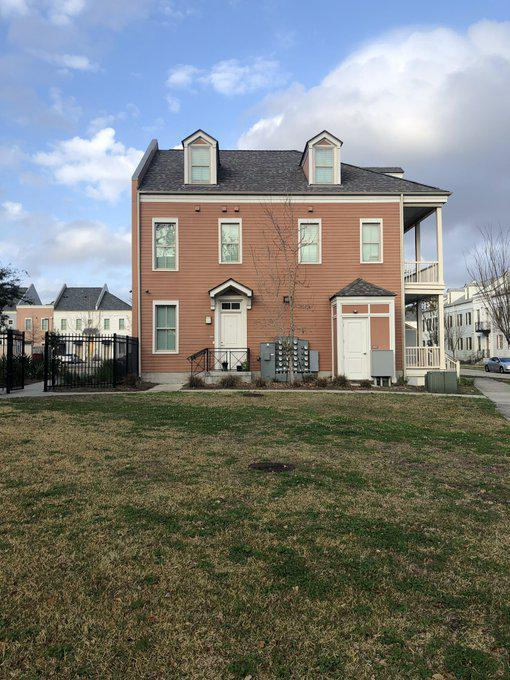affected: (115, 126, 462, 397)
